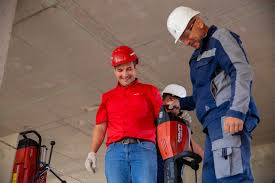Person_wearing_helmet: (106, 39, 141, 73)
